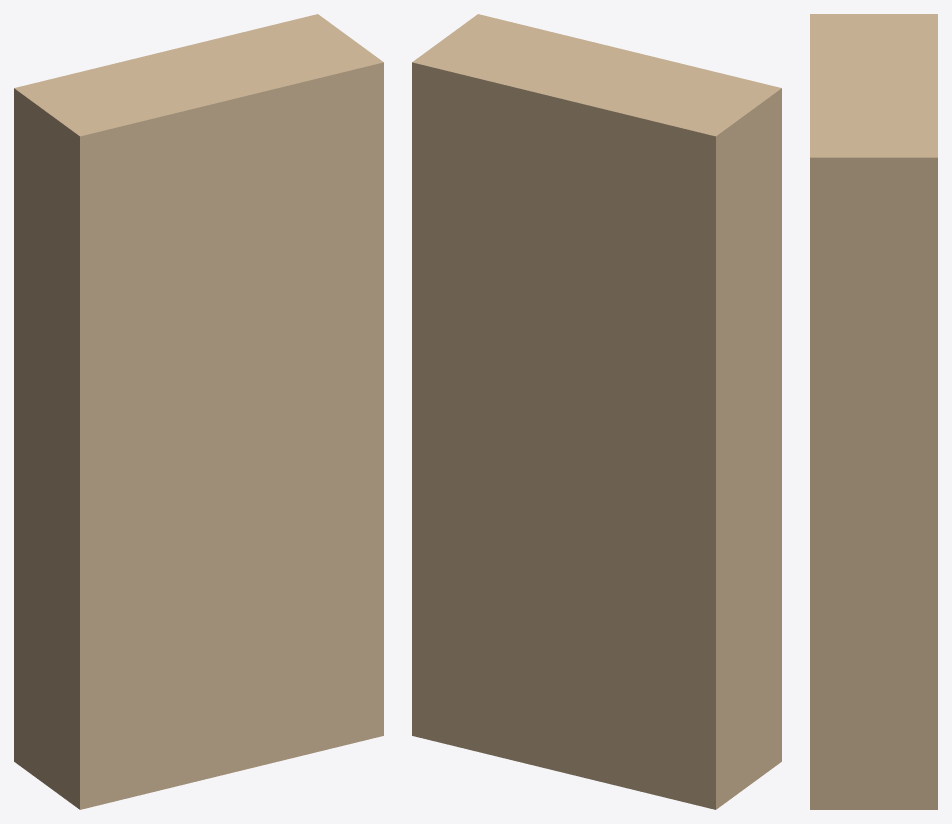
The model's file is bookcase.glb.
3 renders of one model, left to right at view 1: azimuth 30°, elevation 25°; view 2: azimuth 150°, elevation 25°; view 3: azimuth 270°, elevation 25°, orthographic. The views are drawn at different scales.
Parts seen in each view (by area): view 1: root; view 2: root; view 3: root.
Part boxes in pixels (bbox=[...]): root: bbox=[14, 14, 383, 809]; root: bbox=[412, 14, 781, 809]; root: bbox=[810, 14, 937, 809].
Bounding box in the file's own units: 0.85 × 1.8 × 0.32.
